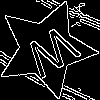W: (20, 24, 87, 88)
